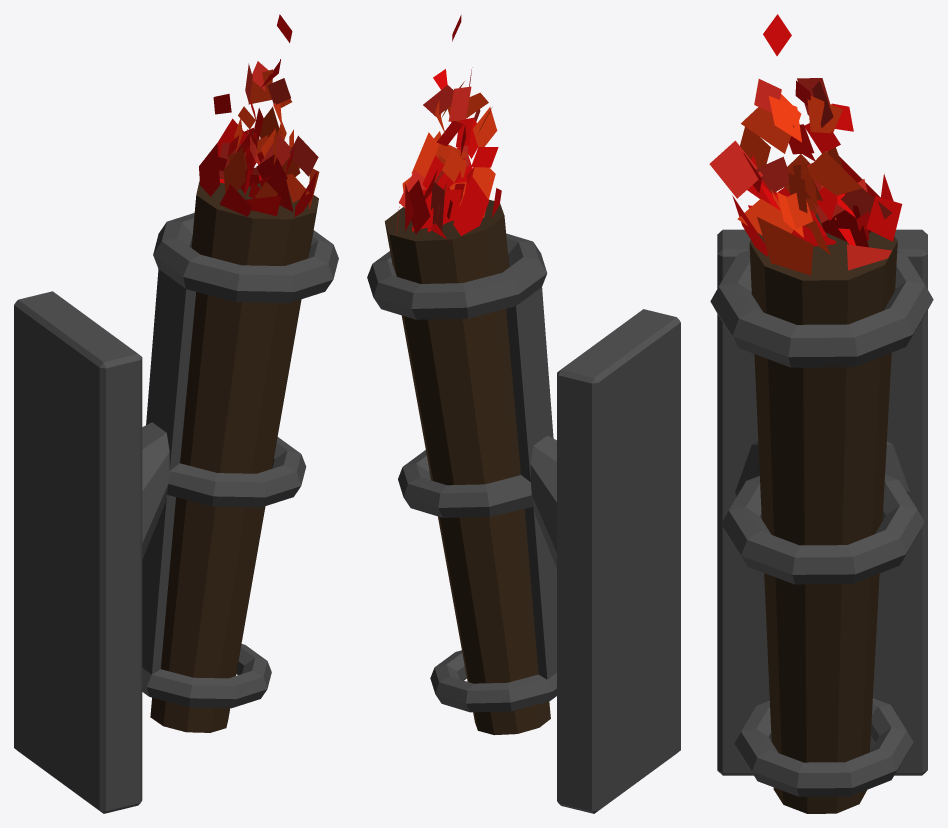
File: torch.fbx
3 views of the same model, side by side, from view 1: azimuth 30°, elevation 25°; view 2: azimuth 150°, elevation 25°; view 3: azimuth 270°, elevation 25° (orthographic). The views are drawn at different scales.
Parts seen in each view (by area): view 1: handle, torch, fire; view 2: handle, torch, fire; view 3: handle, torch, fire.
Boxes of the visible parts, bbox=[...] form: handle: bbox=[14, 213, 338, 813]; torch: bbox=[150, 179, 318, 732]; fire: bbox=[199, 14, 319, 216]; handle: bbox=[367, 233, 680, 813]; torch: bbox=[384, 199, 550, 735]; fire: bbox=[396, 15, 501, 243]; handle: bbox=[710, 229, 933, 796]; torch: bbox=[749, 213, 897, 813]; fire: bbox=[709, 14, 902, 275].
Size of the model in its own units: 25.82 by 67.7 by 16.09.
